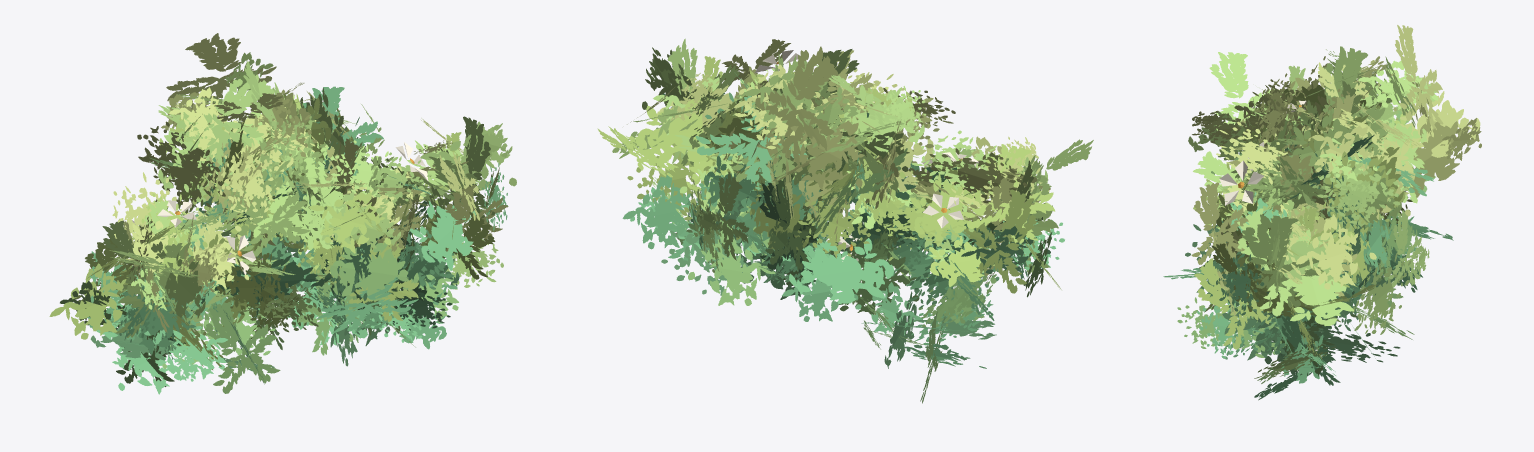
The model's file is Bush_02_Round_Flower_White_LOD1.glb.
3 views of the same model, side by side, from view 1: azimuth 30°, elevation 25°; view 2: azimuth 150°, elevation 25°; view 3: azimuth 270°, elevation 25° (orthographic). The views are drawn at different scales.
Parts seen in each view (by area): view 1: Bush_02_Round_Flower_White_LOD1; view 2: Bush_02_Round_Flower_White_LOD1; view 3: Bush_02_Round_Flower_White_LOD1.
Part boxes in pixels (left/top/right/bottom): Bush_02_Round_Flower_White_LOD1: left=49, top=33, right=516, bottom=394; Bush_02_Round_Flower_White_LOD1: left=597, top=38, right=1093, bottom=403; Bush_02_Round_Flower_White_LOD1: left=1163, top=25, right=1481, bottom=400.
Bounding box in the file's own units: 2.43 × 1.75 × 1.66.
8 materials, 6 textured.
